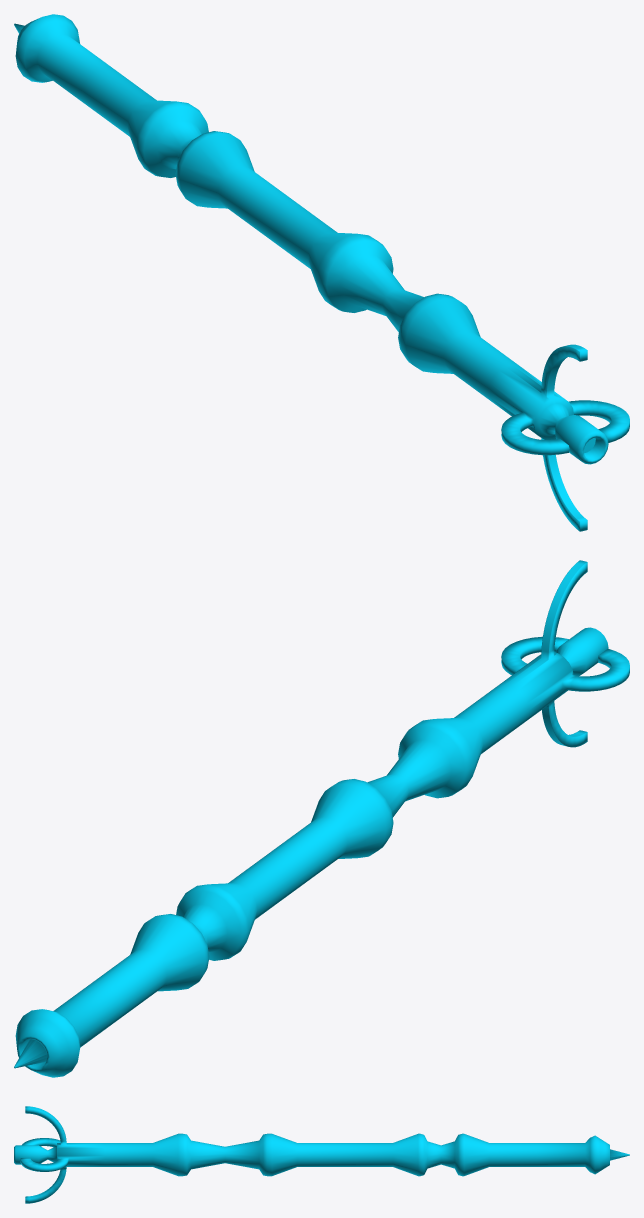
The model's file is Staff_low.fbx.
3 renders of one model, top to bottom at view 1: azimuth 30°, elevation 25°; view 2: azimuth 150°, elevation 25°; view 3: azimuth 270°, elevation 25°, orthographic. The views are drawn at different scales.
Visible parts, largest first — view 1: StaffBase_low; view 2: StaffBase_low; view 3: StaffBase_low.
Boxes of the visible parts, x1,y1,x2,y2 form: StaffBase_low: [14, 14, 629, 531]; StaffBase_low: [14, 560, 629, 1077]; StaffBase_low: [14, 1106, 629, 1203].
Bounding box in the file's own units: 203 × 300 × 1753.
